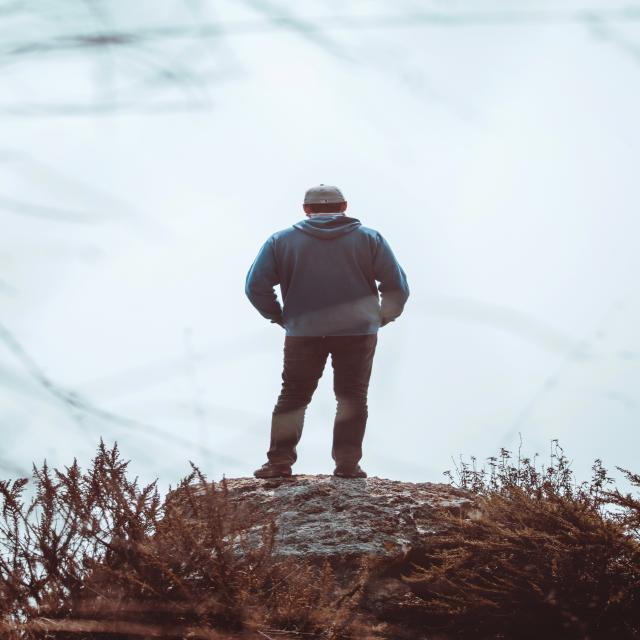adult: (241, 185, 409, 480)
